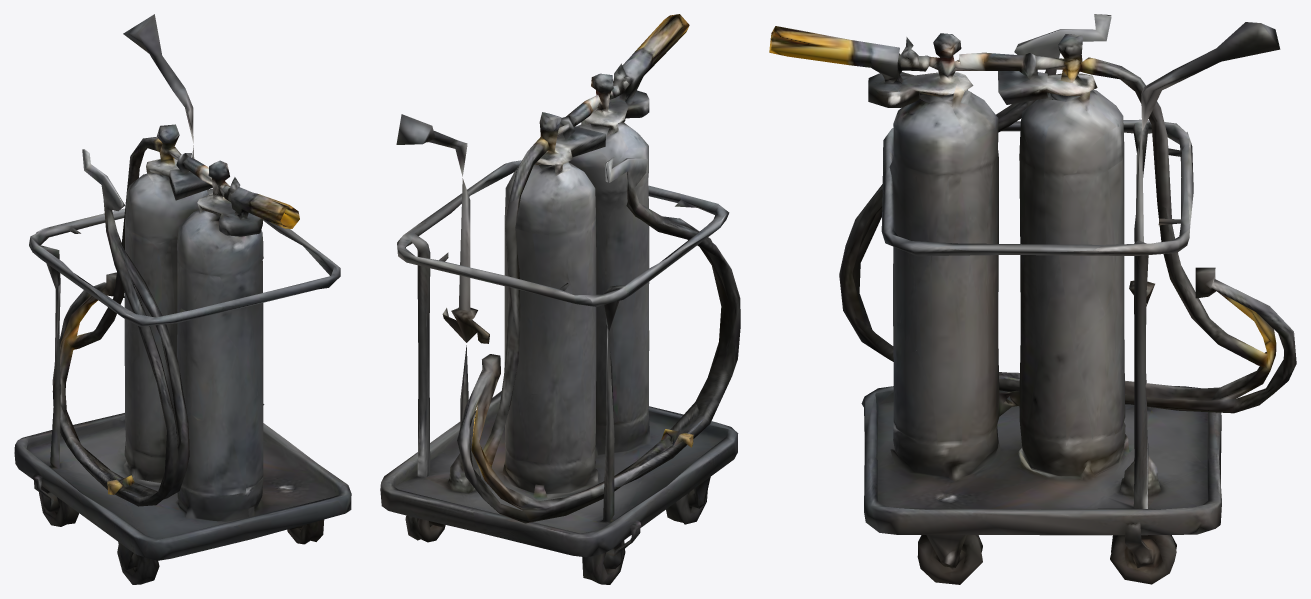
The model's file is gr_welder.glb.
3 renders of one model, left to right at view 1: azimuth 30°, elevation 25°; view 2: azimuth 150°, elevation 25°; view 3: azimuth 270°, elevation 25°, orthographic. The views are drawn at different scales.
Visible parts, largest first — view 1: tripo_node_5133b57f-088c-4072-a0b2-8eb9867c5053; view 2: tripo_node_5133b57f-088c-4072-a0b2-8eb9867c5053; view 3: tripo_node_5133b57f-088c-4072-a0b2-8eb9867c5053.
Part boxes in pixels (box(x1,y1,x2,y2)): tripo_node_5133b57f-088c-4072-a0b2-8eb9867c5053: box(14, 14, 351, 584); tripo_node_5133b57f-088c-4072-a0b2-8eb9867c5053: box(380, 14, 740, 584); tripo_node_5133b57f-088c-4072-a0b2-8eb9867c5053: box(769, 14, 1296, 584).
Bounding box in the file's own units: 0.5332 × 1 × 0.8787.
Materials: 1 (1 with a texture image).
